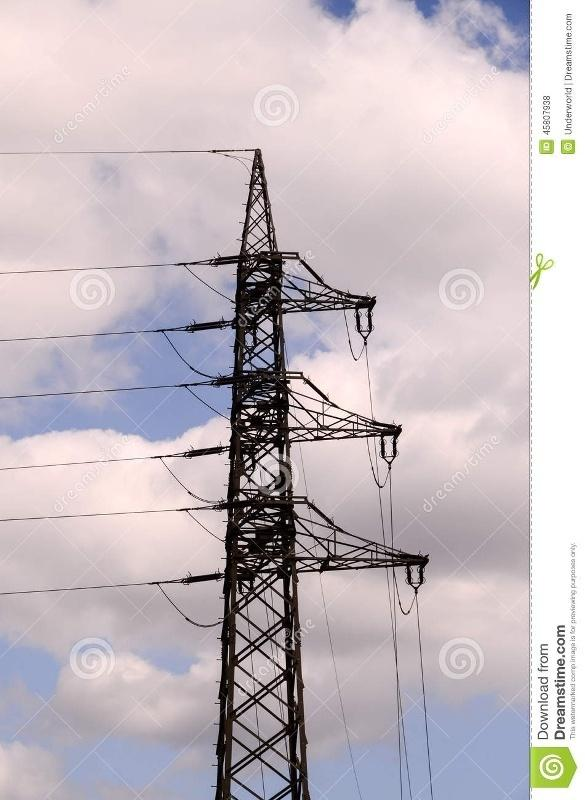power_tower: (135, 130, 422, 701)
